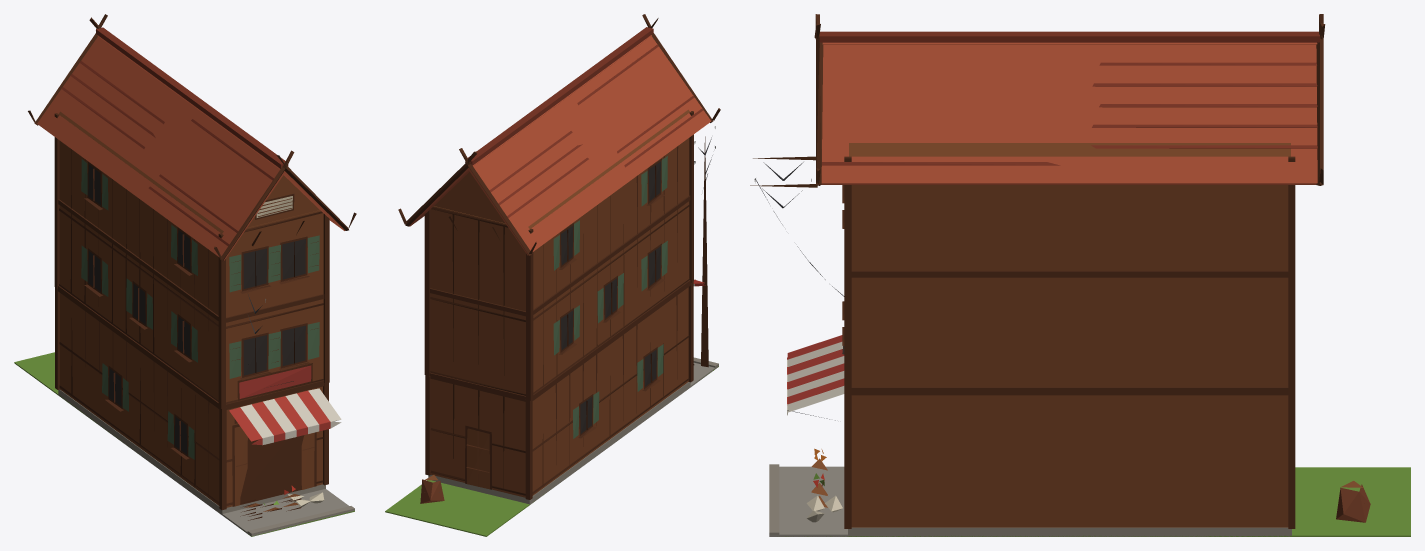
File: bay2_left.glb
3 views of the same model, side by side, from view 1: azimuth 30°, elevation 25°; view 2: azimuth 150°, elevation 25°; view 3: azimuth 270°, elevation 25° (orthographic). The views are drawn at different scales.
Parts seen in each view (by area): view 1: body, windows; view 2: body, windows; view 3: body.
Boxes of the visible parts, x1,y1,x2,y2 form: body: (14, 14, 356, 536); windows: (88, 164, 305, 454); body: (385, 14, 720, 536); windows: (561, 161, 660, 433); body: (750, 14, 1410, 536).
Bounding box in the file's own units: 5.53 × 13.28 × 16.4.
